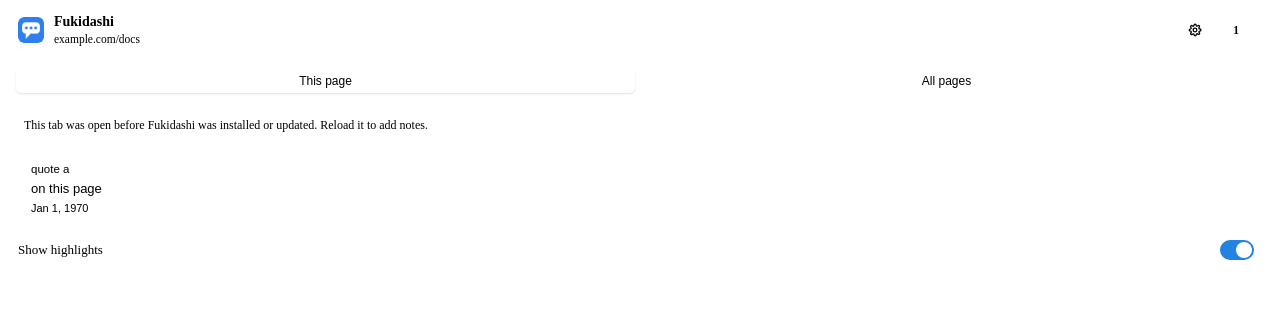
Test case: a page that cannot take notes yet › keeps the offer to the page in front
The width and height of the screenshot is (1273, 328).
Click the button "All pages". click: (946, 81)
box: [637,69,1256,93]
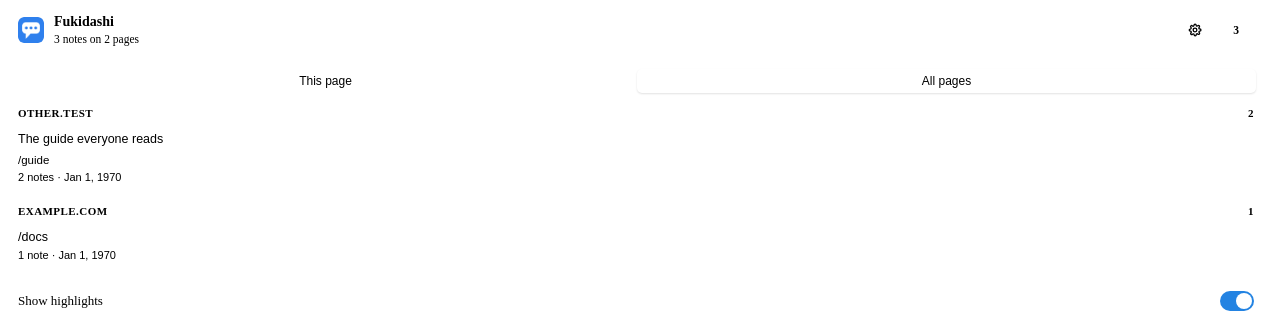
Result: the element with class "fk-notice" is gone
